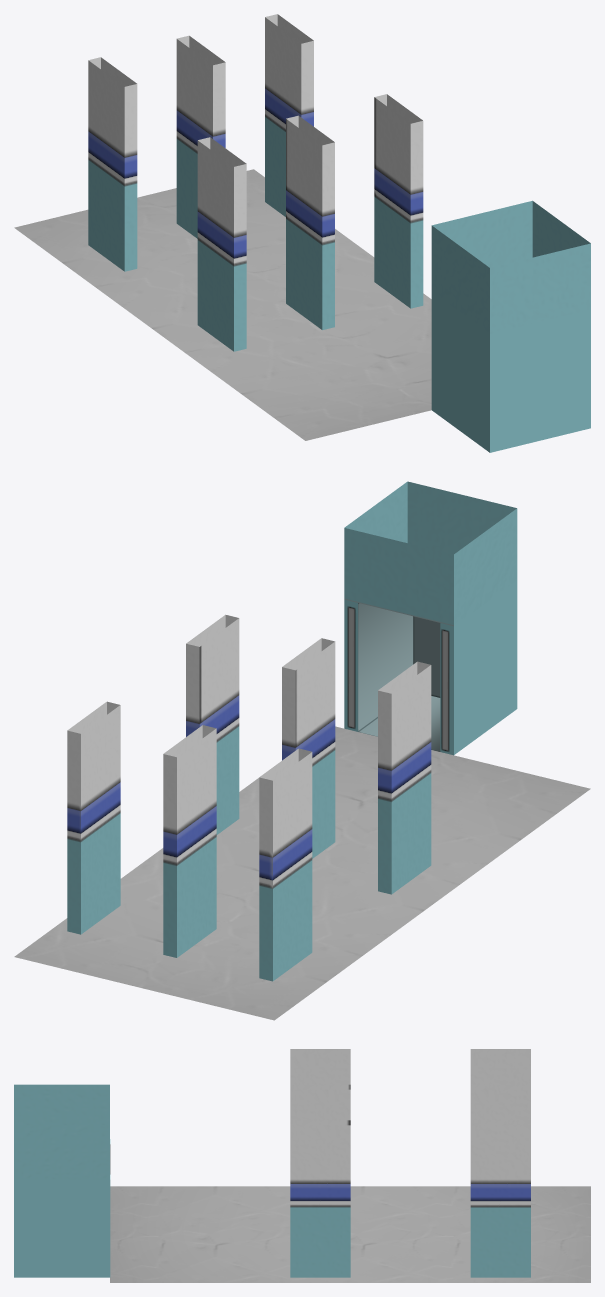
File: VoidDeck.fbx
3 renders of one model, top to bottom at view 1: azimuth 30°, elevation 25°; view 2: azimuth 150°, elevation 25°; view 3: azimuth 270°, elevation 25°, orthographic. The views are drawn at different scales.
Visible parts, largest first — view 1: Mesh; view 2: Mesh; view 3: Mesh.
Part boxes in pixels (x1=…): Mesh: x1=14, y1=14, x2=590, y2=452; Mesh: x1=14, y1=481, x2=590, y2=1020; Mesh: x1=14, y1=1049, x2=590, y2=1282.
Bounding box in the file's own units: 19 × 14 × 48.
1 material, 1 textured.
